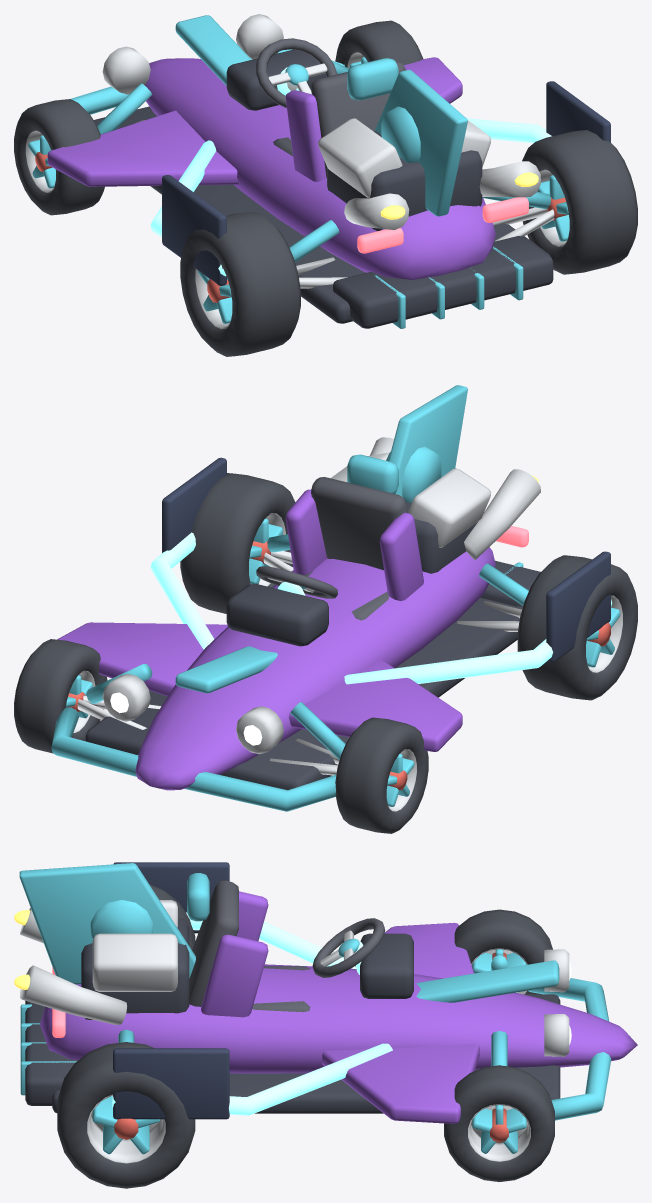
The model's file is cometa_estelar.glb.
3 views of the same model, one above another, from view 1: azimuth 30°, elevation 25°; view 2: azimuth 150°, elevation 25°; view 3: azimuth 270°, elevation 25° (orthographic).
Parts seen in each view (by area): view 1: cometa-estelar_ChassisMesh, WheelRL_Mesh, WheelRR_Mesh, WheelFL_Mesh, WheelFR_Mesh, cometa-estelar_SteeringWheelMesh, ExhaustL_Mesh, ExhaustR_Mesh; view 2: cometa-estelar_ChassisMesh, WheelRR_Mesh, WheelRL_Mesh, WheelFL_Mesh, WheelFR_Mesh, ExhaustL_Mesh, cometa-estelar_SteeringWheelMesh; view 3: cometa-estelar_ChassisMesh, WheelRR_Mesh, WheelFR_Mesh, WheelFL_Mesh, ExhaustR_Mesh, cometa-estelar_SteeringWheelMesh, ExhaustL_Mesh, WheelRL_Mesh.
Part boxes in pixels (bbox=[...]): cometa-estelar_ChassisMesh: bbox=[47, 14, 610, 328]; WheelRL_Mesh: bbox=[180, 211, 300, 356]; WheelRR_Mesh: bbox=[522, 130, 637, 274]; WheelFL_Mesh: bbox=[14, 99, 104, 215]; WheelFR_Mesh: bbox=[335, 20, 423, 68]; cometa-estelar_SteeringWheelMesh: bbox=[256, 38, 337, 108]; ExhaustL_Mesh: bbox=[344, 193, 409, 229]; ExhaustR_Mesh: bbox=[479, 161, 540, 197]; cometa-estelar_ChassisMesh: bbox=[51, 385, 612, 811]; WheelRR_Mesh: bbox=[180, 473, 295, 613]; WheelRL_Mesh: bbox=[517, 555, 637, 700]; WheelFL_Mesh: bbox=[335, 717, 428, 833]; WheelFR_Mesh: bbox=[14, 639, 107, 753]; ExhaustL_Mesh: bbox=[464, 469, 540, 560]; cometa-estelar_SteeringWheelMesh: bbox=[256, 566, 337, 598]; cometa-estelar_ChassisMesh: bbox=[19, 862, 637, 1123]; WheelRR_Mesh: bbox=[57, 1042, 195, 1188]; WheelFR_Mesh: bbox=[444, 1065, 554, 1181]; WheelFL_Mesh: bbox=[454, 909, 552, 994]; ExhaustR_Mesh: bbox=[14, 965, 127, 1024]; cometa-estelar_SteeringWheelMesh: bbox=[312, 918, 385, 977]; ExhaustL_Mesh: bbox=[14, 908, 43, 943]; WheelRL_Mesh: bbox=[149, 884, 195, 949].
Size of the model in its own units: 2.03 by 1.14 by 2.78.
